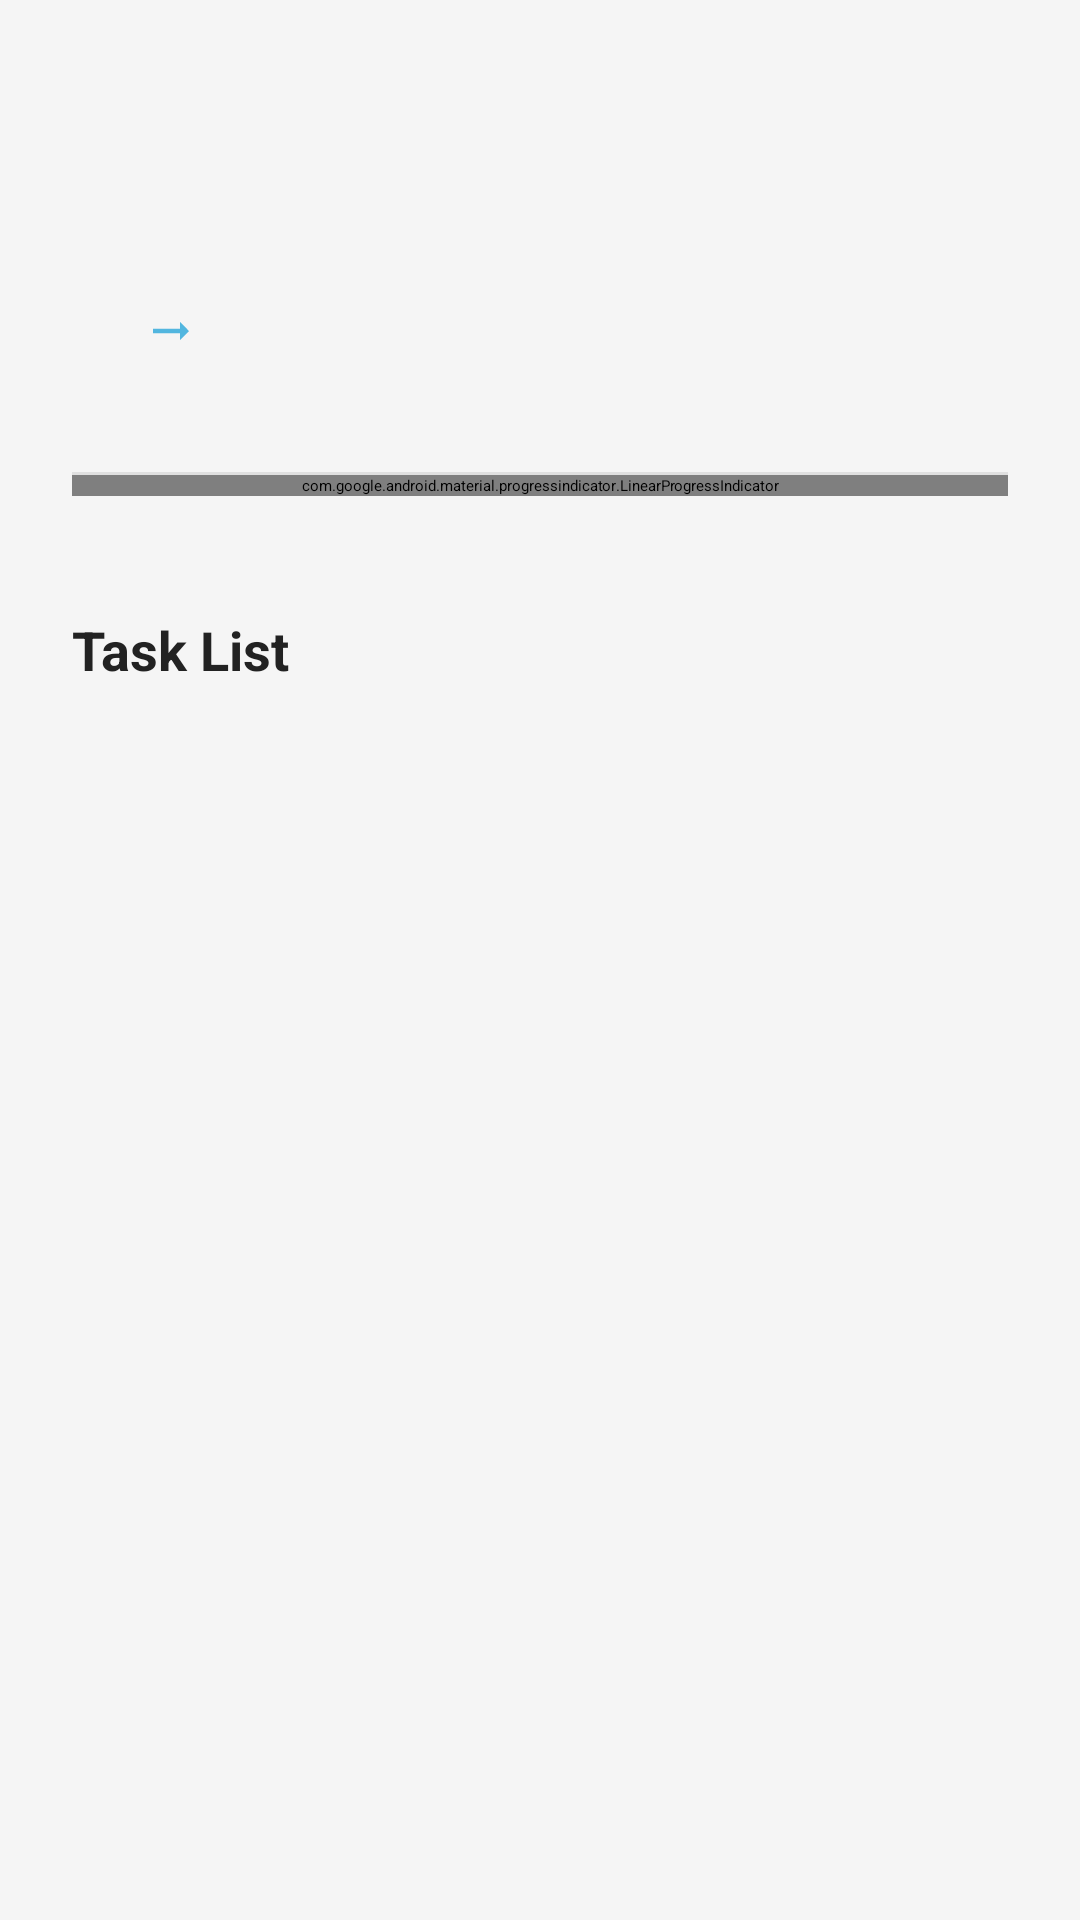

Icon click points for this 1080 x 1920 phone screenshot, format (x,y):
arrow right: (171,331)
